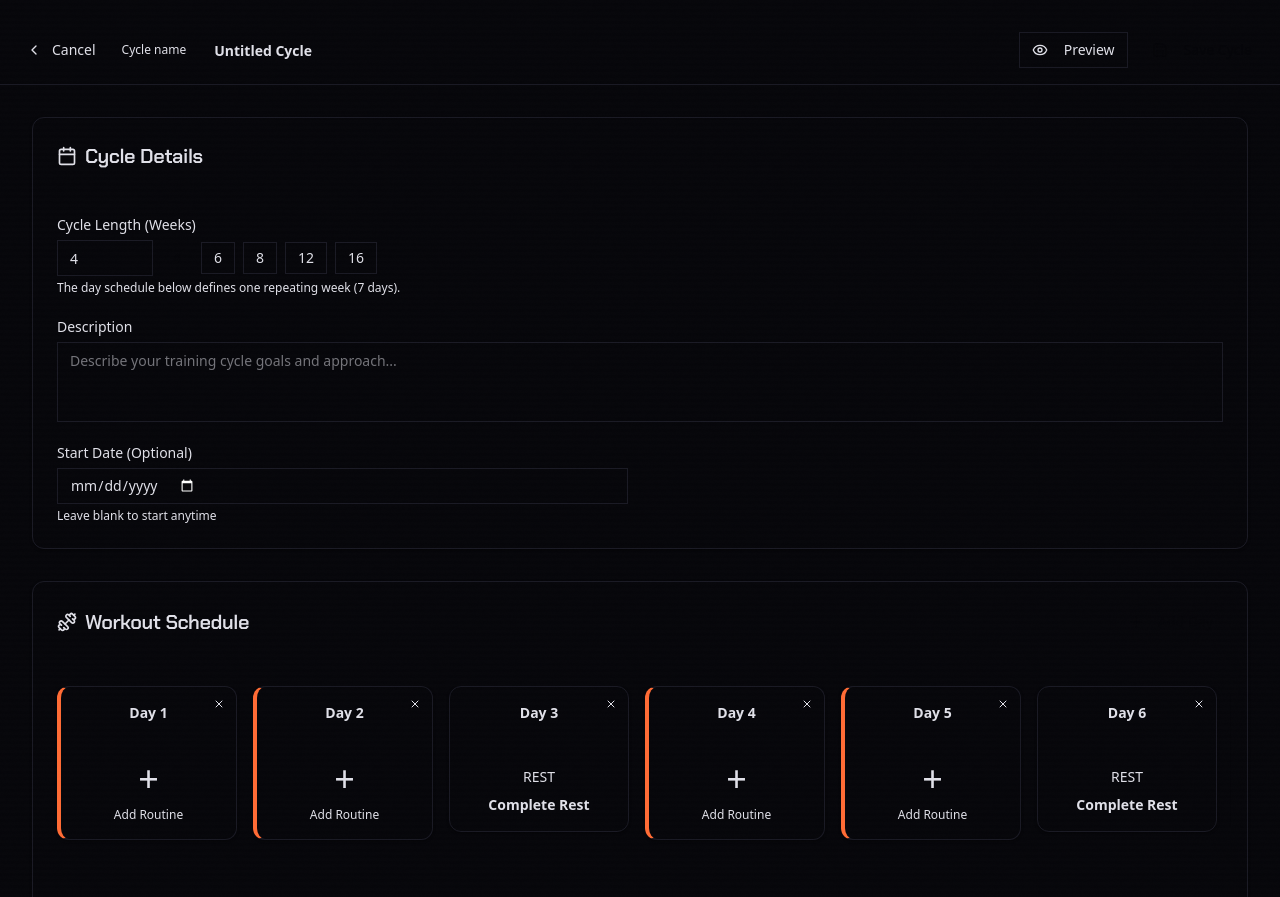
CycleBuilder › opens preview dialog when Preview button is clicked
Click the button "Preview": (1073, 50) [1019,32,1128,68]
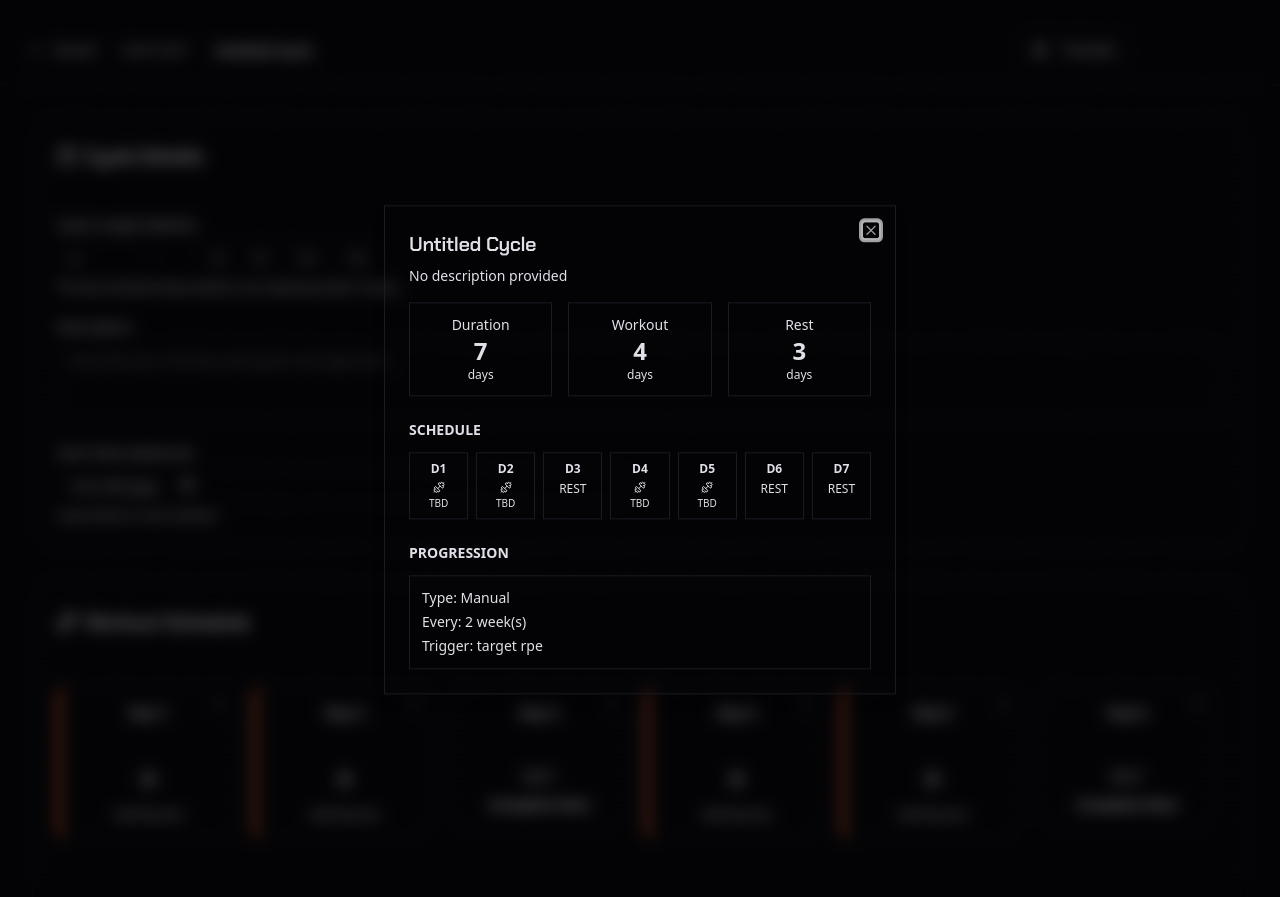
Check: the heading "Untitled Cycle" is shown, box [409,231,536,257]
